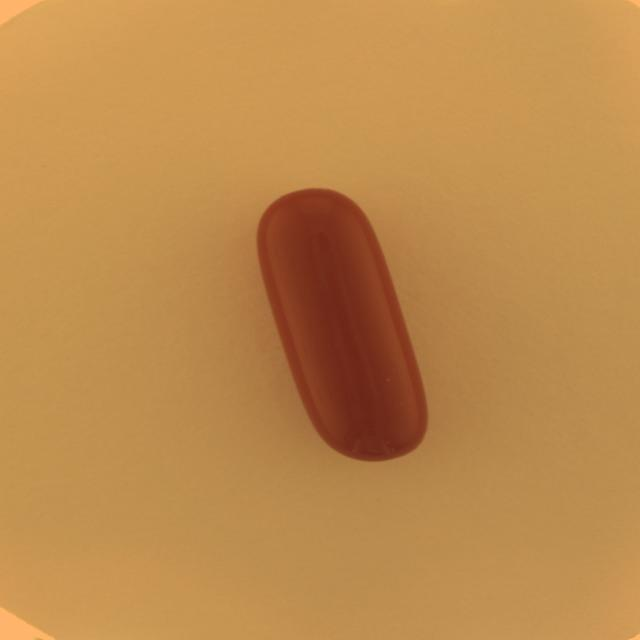Oval: (255, 186, 430, 465)
